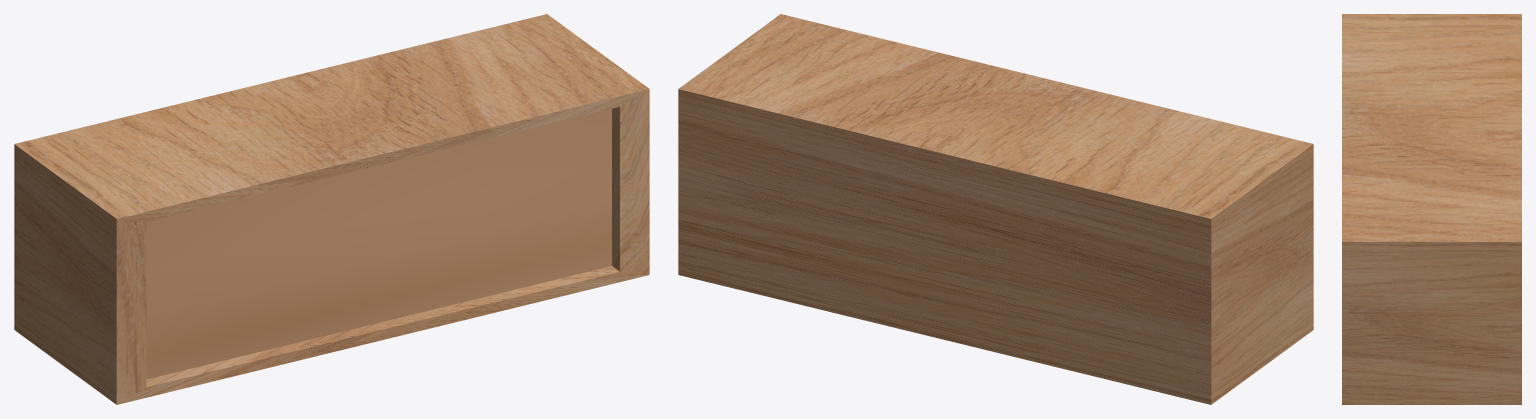
File: clock.fbx
3 renders of one model, left to right at view 1: azimuth 30°, elevation 25°; view 2: azimuth 150°, elevation 25°; view 3: azimuth 270°, elevation 25°, orthographic. The views are drawn at different scales.
Parts seen in each view (by area): view 1: Cube; view 2: Cube; view 3: Cube.
Part boxes in pixels (x1,y1,x2,y2): Cube: (14,14,649,404); Cube: (678,14,1313,404); Cube: (1342,14,1521,404).
Size of the model in its own units: 600 by 200 by 200.
Materials: 1 (1 with a texture image).
